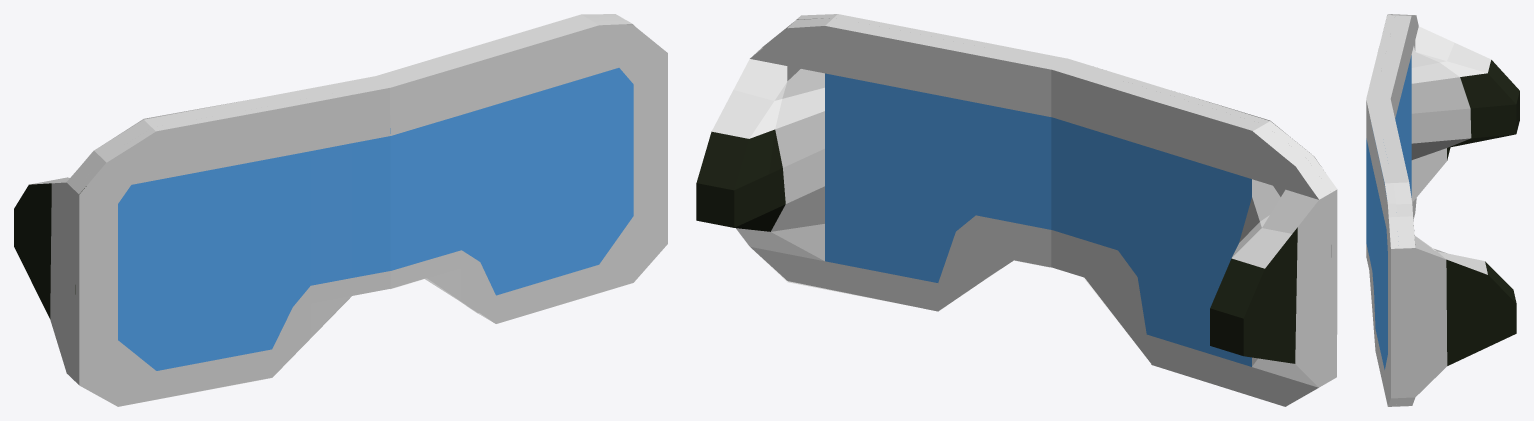
Rendered from Goggle.fbx.
3 views of the same model, side by side, from view 1: azimuth 30°, elevation 25°; view 2: azimuth 150°, elevation 25°; view 3: azimuth 270°, elevation 25° (orthographic). The views are drawn at different scales.
Visible parts, largest first — view 1: 큐브.002; view 2: 큐브.002; view 3: 큐브.002.
Boxes of the visible parts, <box> form: 큐브.002: <box>14,14,667,406</box>; 큐브.002: <box>696,14,1337,406</box>; 큐브.002: <box>1366,14,1519,406</box>.
Bounding box in the file's own units: 0.2514 × 0.1107 × 0.073.
